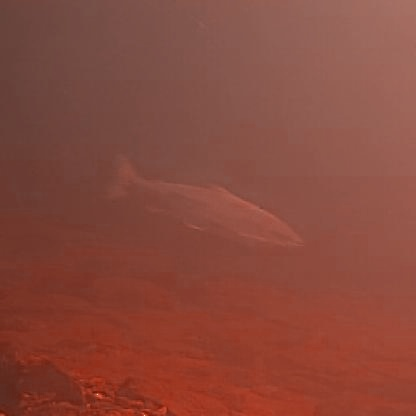salmon: (97, 146, 310, 253)
